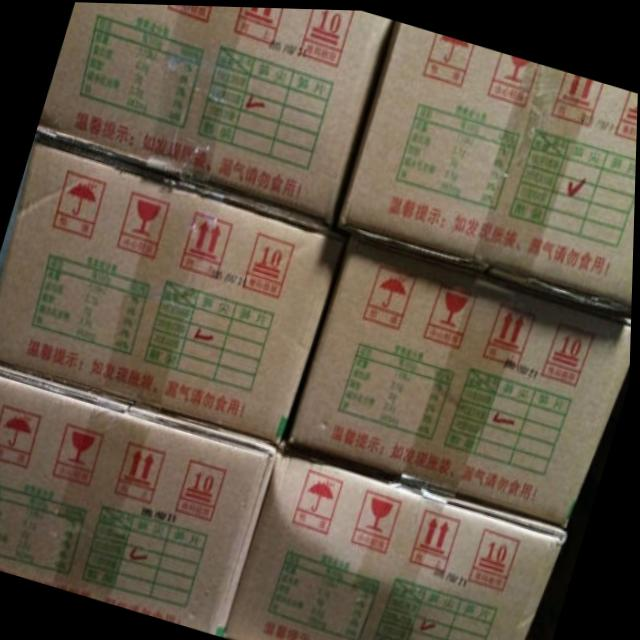box: (0, 130, 348, 445), (283, 224, 633, 525), (333, 17, 638, 306), (36, 2, 393, 221), (0, 365, 281, 635), (226, 446, 570, 640)
